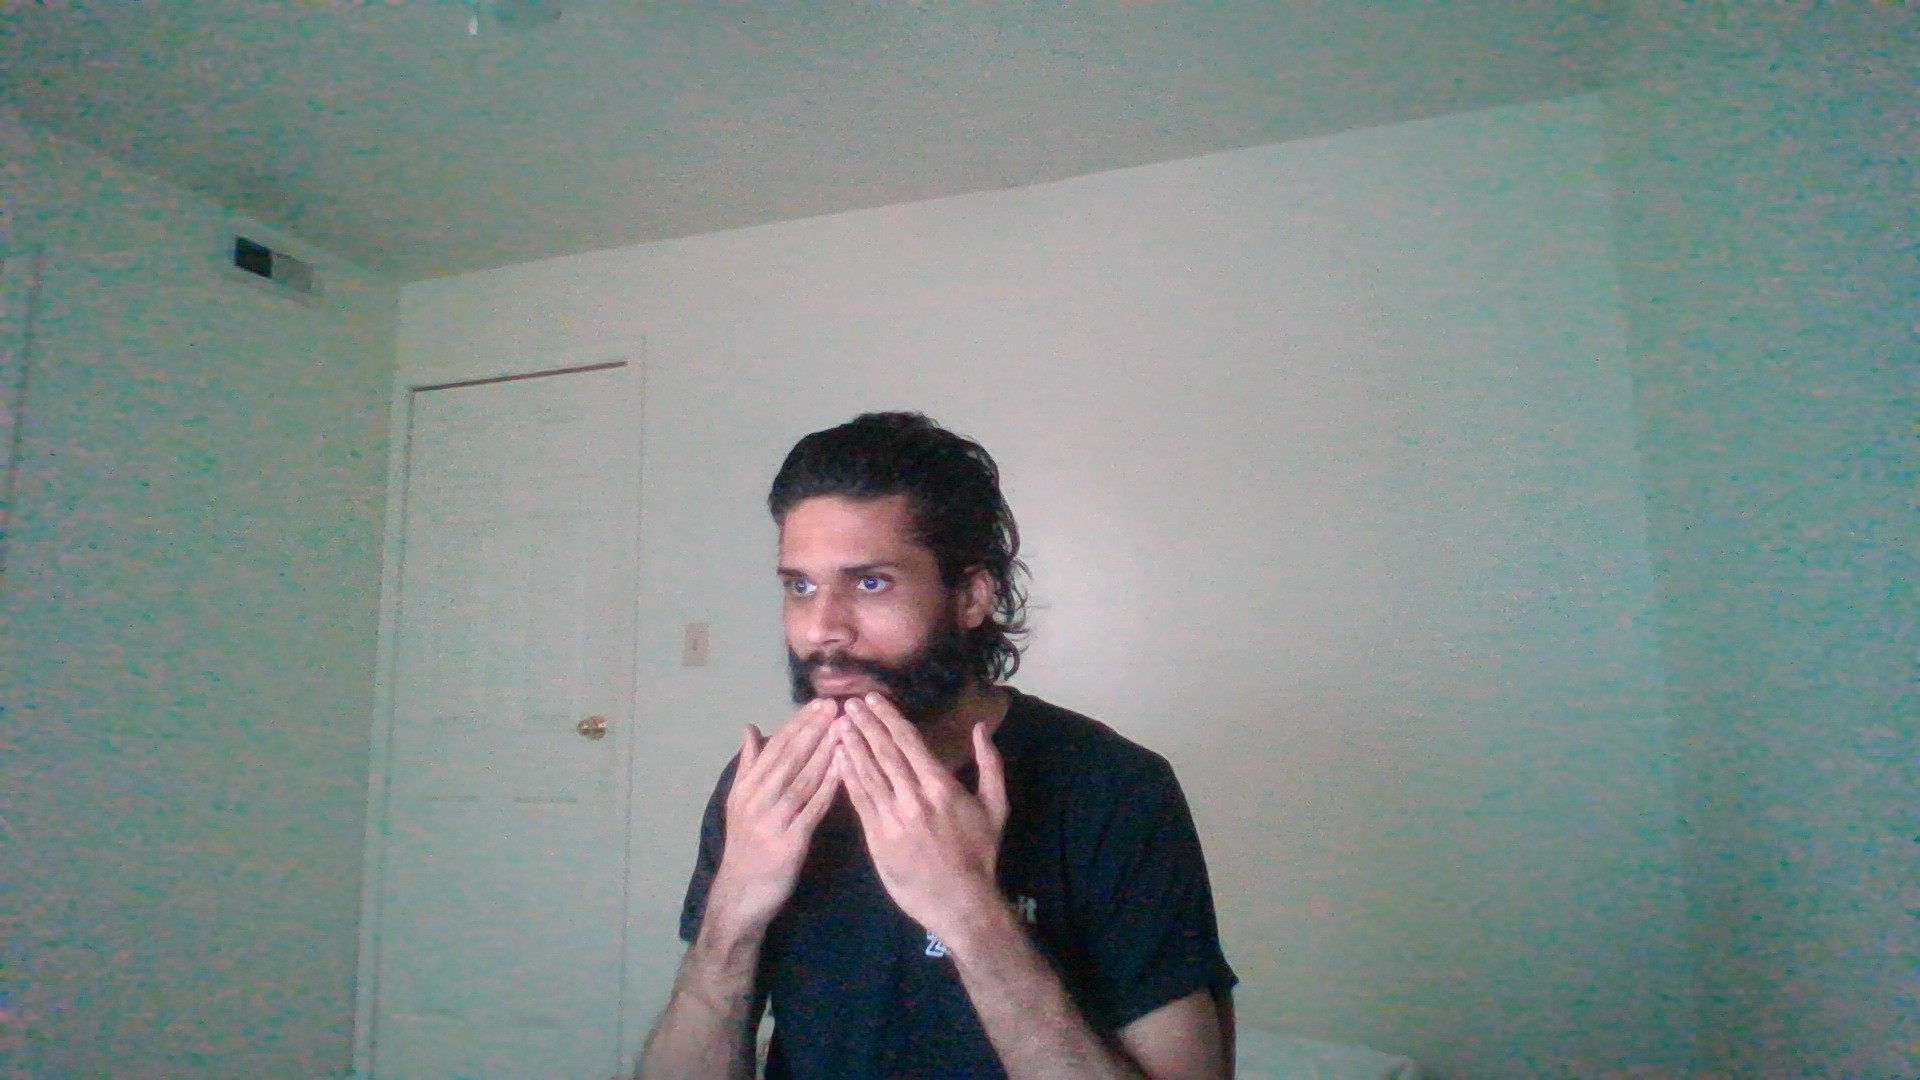Thank You: (676, 667, 1039, 936)
